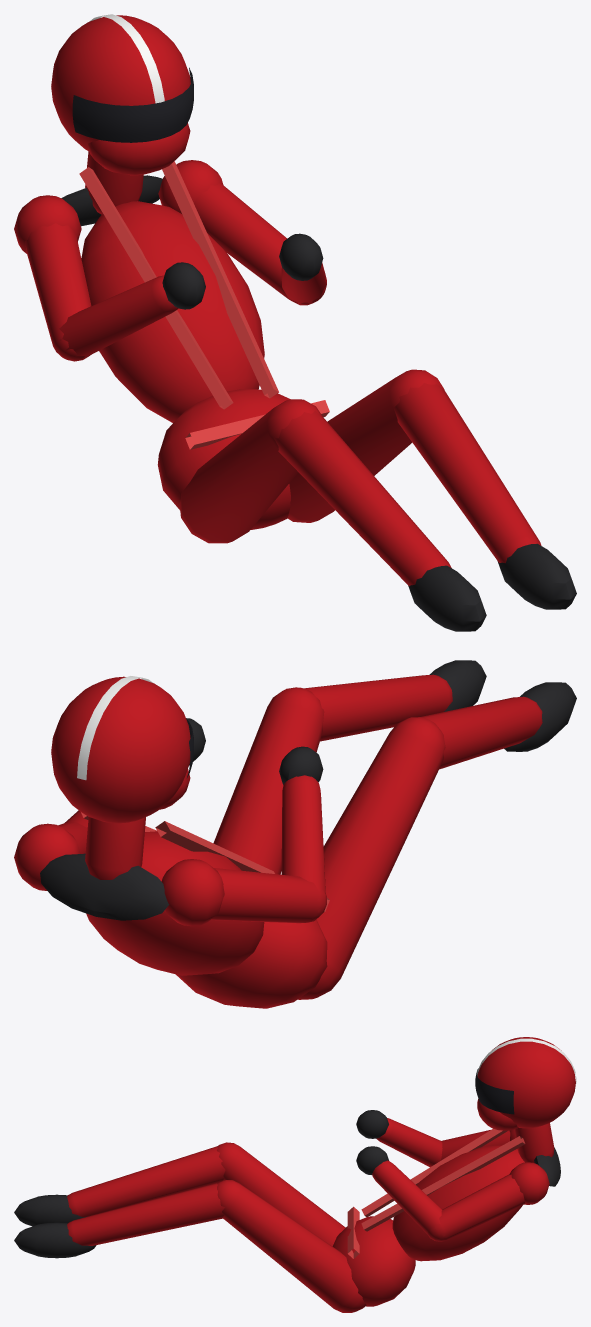
Rendered from fugazzi_sf26_driver.glb.
3 renders of one model, top to bottom at view 1: azimuth 30°, elevation 25°; view 2: azimuth 150°, elevation 25°; view 3: azimuth 270°, elevation 25°, orthographic. The views are drawn at different scales.
Visible parts, largest first — view 1: fugazzi_sf26_driver; view 2: fugazzi_sf26_driver; view 3: fugazzi_sf26_driver.
Boxes of the visible parts, <box> form: fugazzi_sf26_driver: <box>14,14,576,631</box>; fugazzi_sf26_driver: <box>14,660,576,1008</box>; fugazzi_sf26_driver: <box>14,1037,576,1312</box>.
Size of the model in its own units: 0.5976 by 0.8682 by 1.7.
